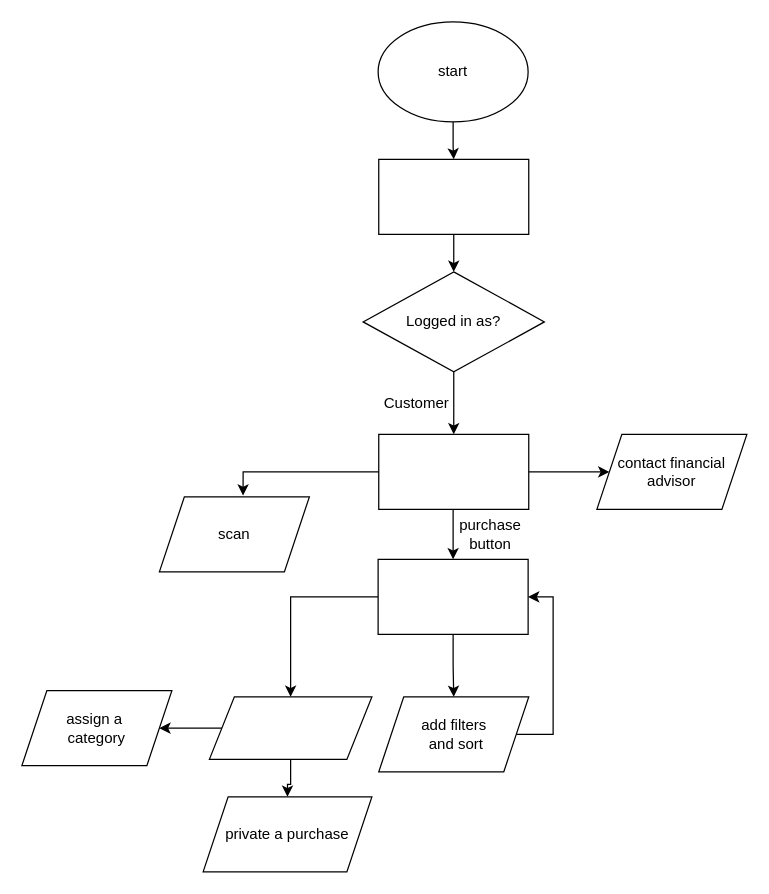
The diagram is 769 pixels wide and 894 high, and some of its shapes have lost their labels. The box of each missing label's shape, as (x1, y1, x2, y2) in pixels:
customer homepage: (378, 433, 529, 509)
display purchases with filters and sort: (377, 558, 528, 634)
Login page: (378, 158, 529, 234)
select a specific purchase: (208, 696, 372, 759)
